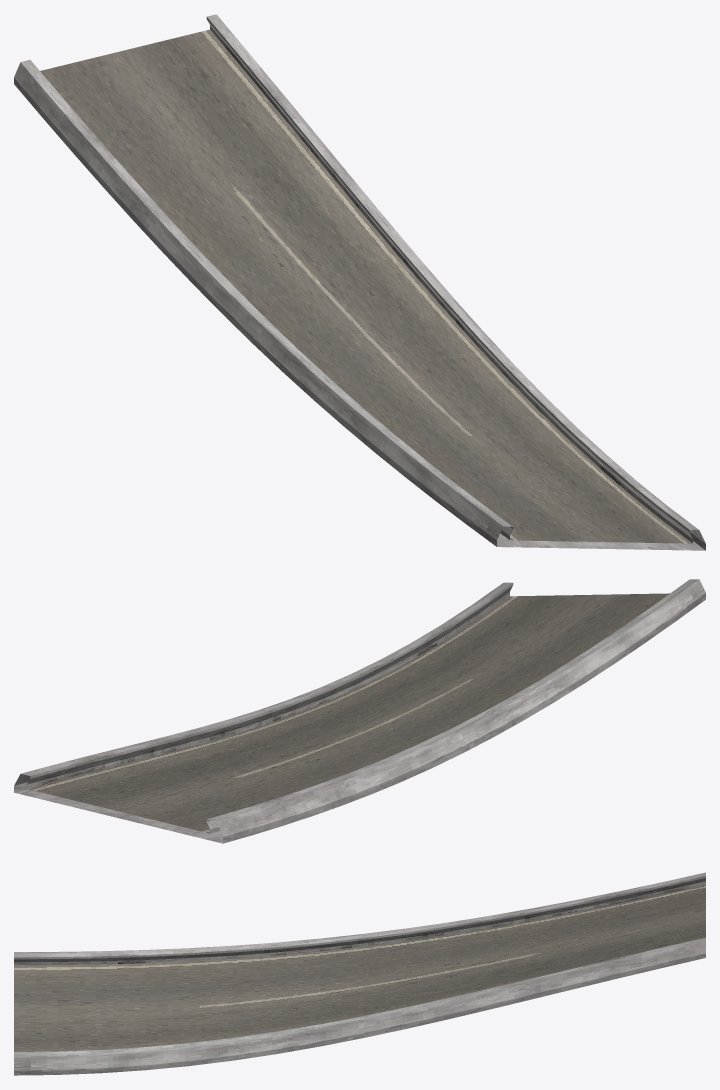
Rendered from straight4.glb.
3 renders of one model, top to bottom at view 1: azimuth 30°, elevation 25°; view 2: azimuth 150°, elevation 25°; view 3: azimuth 270°, elevation 25°, orthographic. The views are drawn at different scales.
Parts seen in each view (by area): view 1: road-Straight-HalfBankedRight-BiSlopeUp-Up3-Center-Size4; view 2: road-Straight-HalfBankedRight-BiSlopeUp-Up3-Center-Size4; view 3: road-Straight-HalfBankedRight-BiSlopeUp-Up3-Center-Size4.
Part boxes in pixels (box(x1,y1,x2,y2)): road-Straight-HalfBankedRight-BiSlopeUp-Up3-Center-Size4: box(14, 14, 705, 550); road-Straight-HalfBankedRight-BiSlopeUp-Up3-Center-Size4: box(14, 579, 705, 843); road-Straight-HalfBankedRight-BiSlopeUp-Up3-Center-Size4: box(14, 872, 705, 1075).
Bounding box in the file's own units: 1 × 0.8437 × 4.
2 materials, 2 textured.
